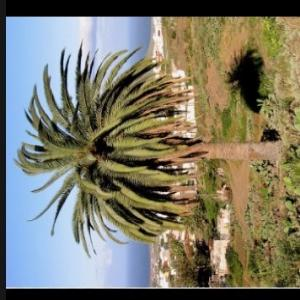palm tree: (13, 38, 208, 258)
